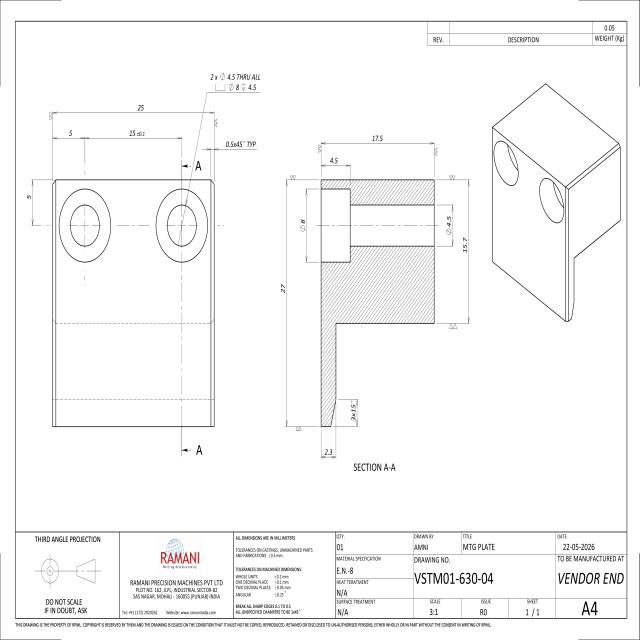dimension: (210, 72, 262, 92), (225, 139, 257, 149), (444, 214, 452, 237), (128, 128, 146, 138), (370, 133, 384, 143), (350, 399, 356, 422), (298, 217, 306, 233), (462, 236, 468, 255), (328, 155, 339, 165), (324, 447, 334, 456), (280, 282, 286, 296), (137, 102, 145, 112), (24, 193, 32, 201), (68, 128, 74, 138)
